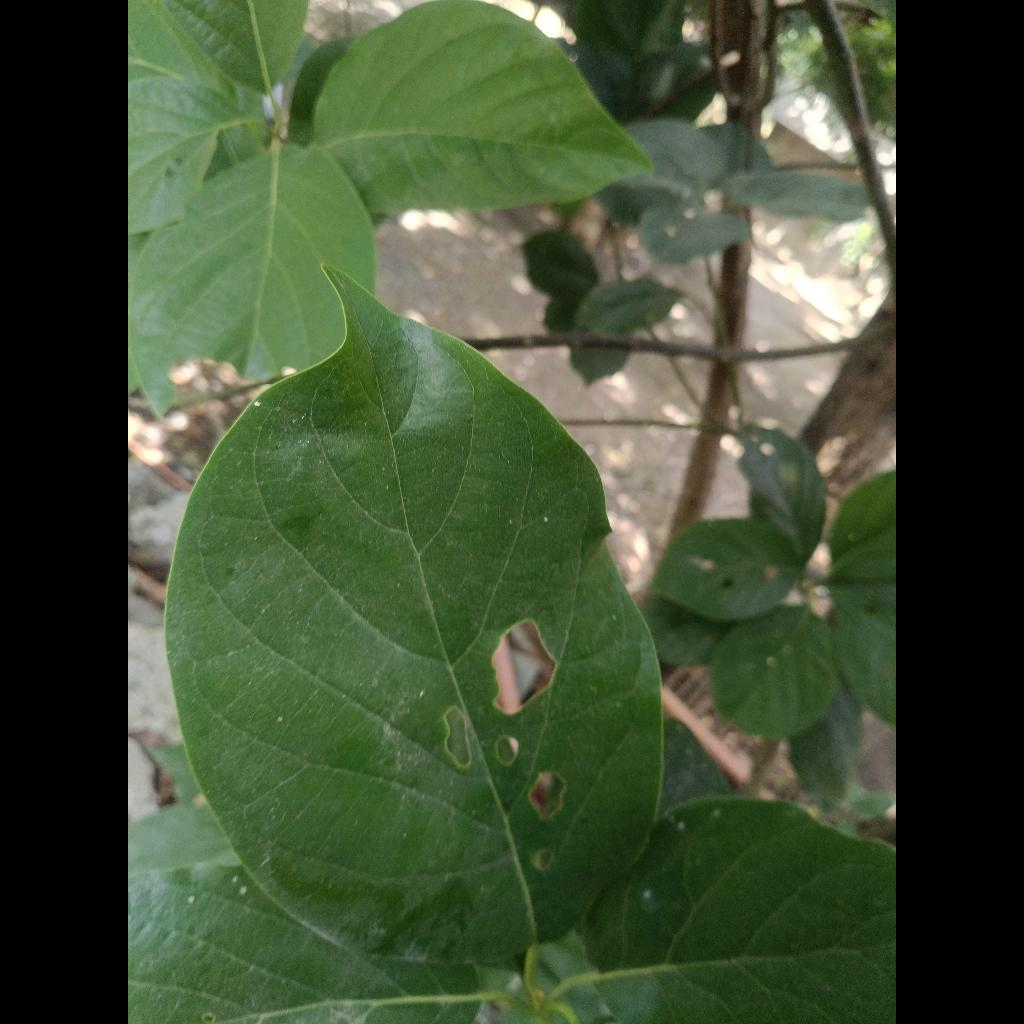Pest Infested: (166, 270, 662, 963)
